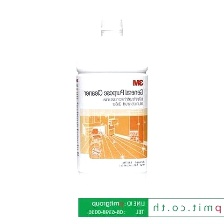cleaning_solution: (74, 15, 150, 190)
